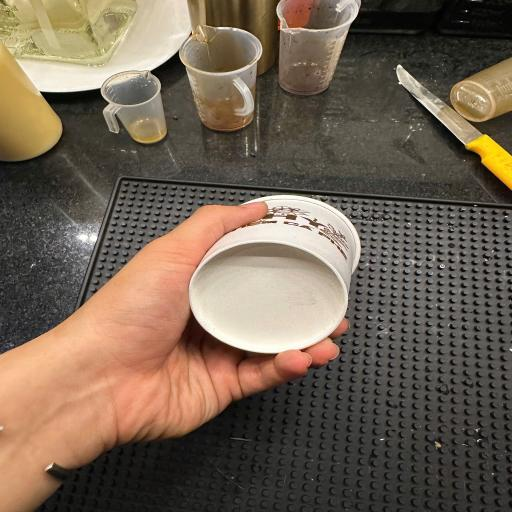ly_giay: (170, 176, 428, 370)
